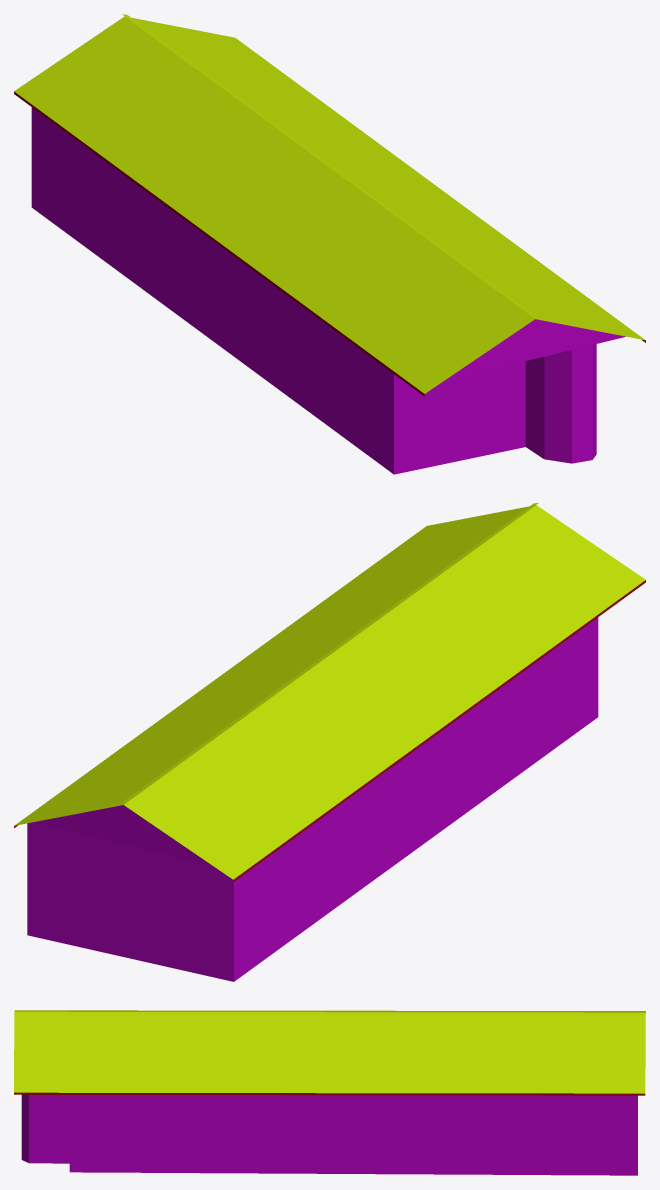
File: rmc_170.glb
The picture shows the model from 3 angles, top to bottom: view 1: azimuth 30°, elevation 25°; view 2: azimuth 150°, elevation 25°; view 3: azimuth 270°, elevation 25°; orthographic projection. The views are drawn at different scales.
Parts seen in each view (by area): view 1: rmc_170; view 2: rmc_170; view 3: rmc_170.
Boxes of the visible parts, box(x1,y1,x2,y2) form: rmc_170: box(14, 14, 645, 474); rmc_170: box(14, 503, 645, 981); rmc_170: box(14, 1010, 645, 1175).
Bounding box in the file's own units: 10.51 × 7.3 × 33.72.
